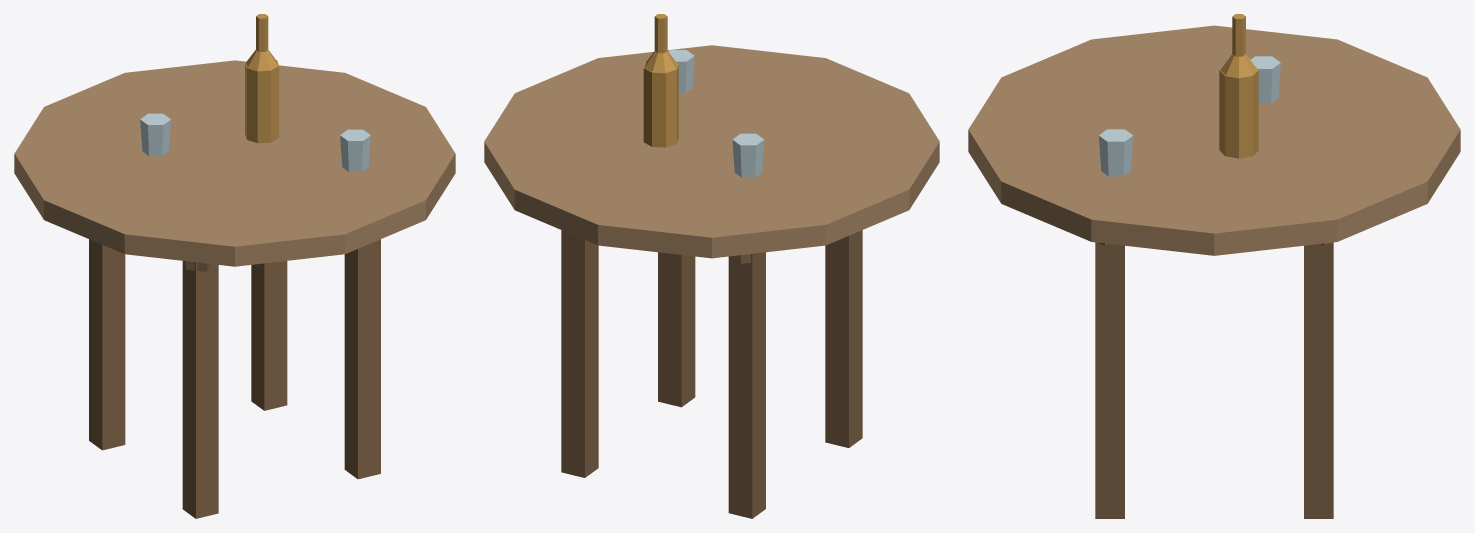
The model's file is SM_Saloon_Table.glb.
3 views of the same model, side by side, from view 1: azimuth 30°, elevation 25°; view 2: azimuth 150°, elevation 25°; view 3: azimuth 270°, elevation 25° (orthographic). The views are drawn at different scales.
Parts seen in each view (by area): view 1: SM_Saloon_Table; view 2: SM_Saloon_Table; view 3: SM_Saloon_Table.
Part boxes in pixels (<box>): SM_Saloon_Table: <box>14,14,455,518</box>; SM_Saloon_Table: <box>484,14,939,518</box>; SM_Saloon_Table: <box>968,14,1460,518</box>.
Size of the model in its own units: 1 by 1.06 by 1.
